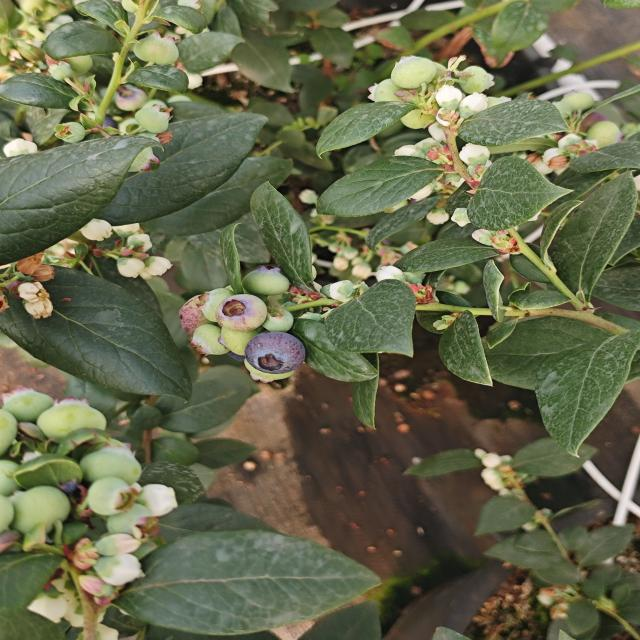ripe: (238, 333, 308, 373)
